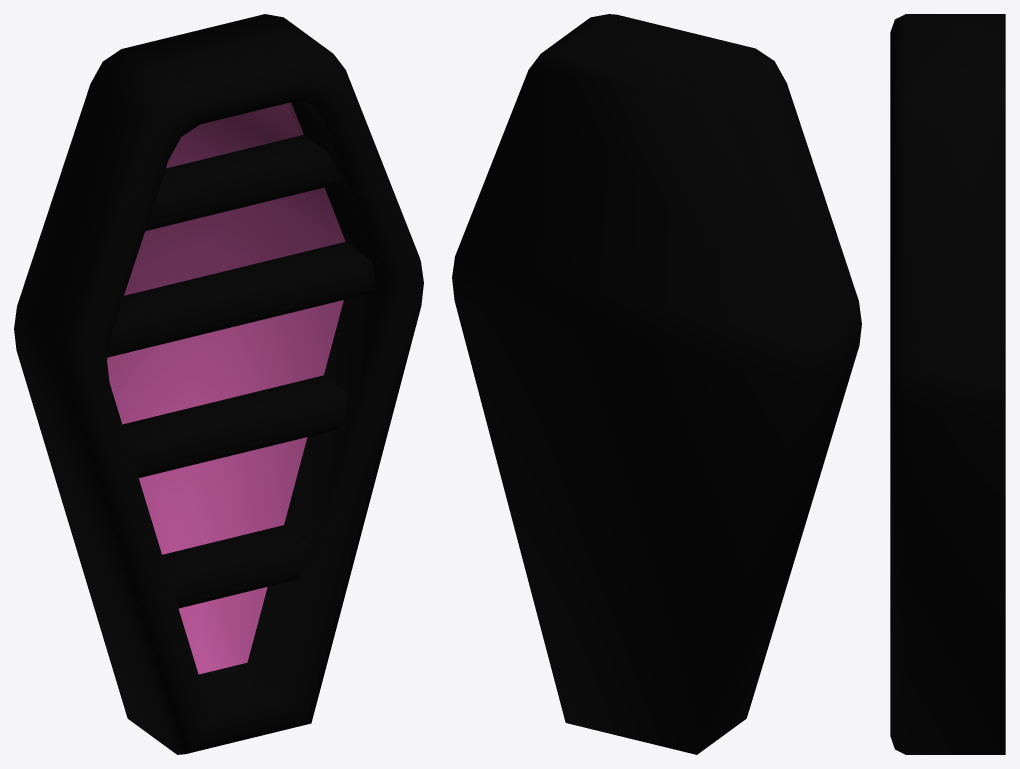
Rendered from Wallslot_01_Goth.glb.
3 views of the same model, side by side, from view 1: azimuth 30°, elevation 25°; view 2: azimuth 150°, elevation 25°; view 3: azimuth 270°, elevation 25° (orthographic).
Parts seen in each view (by area): view 1: Wallslot_01_Goth; view 2: Wallslot_01_Goth; view 3: Wallslot_01_Goth.
Boxes of the visible parts, box(x1,y1,x2,y2) form: Wallslot_01_Goth: box(14, 14, 423, 754); Wallslot_01_Goth: box(452, 14, 861, 754); Wallslot_01_Goth: box(890, 14, 1005, 754).
Bounding box in the file's own units: 0.3608 × 0.645 × 0.1001.
1 material, 1 textured.
